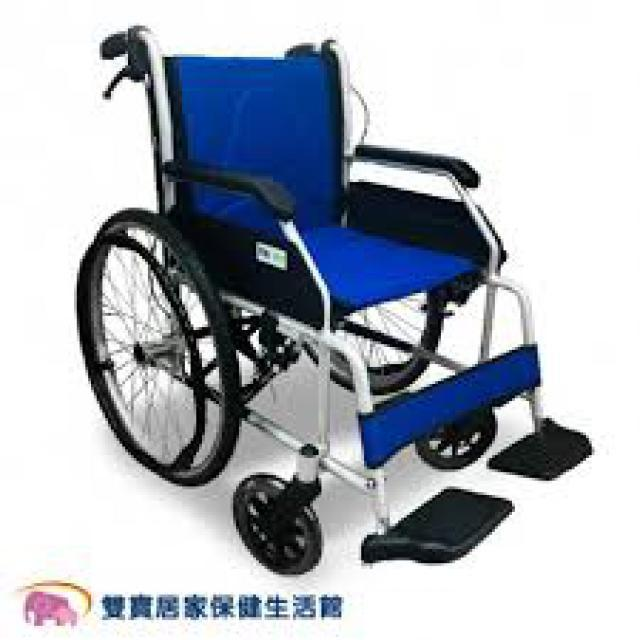wheelchairs: (86, 30, 590, 572)
